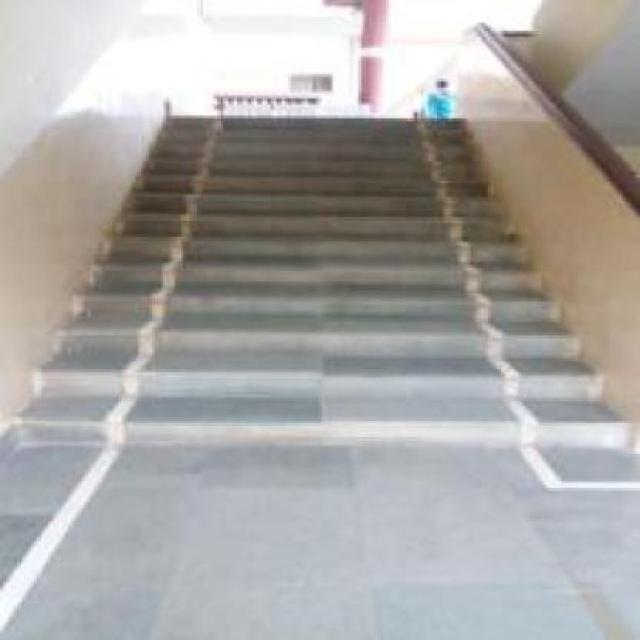stair: (77, 229, 545, 520)
